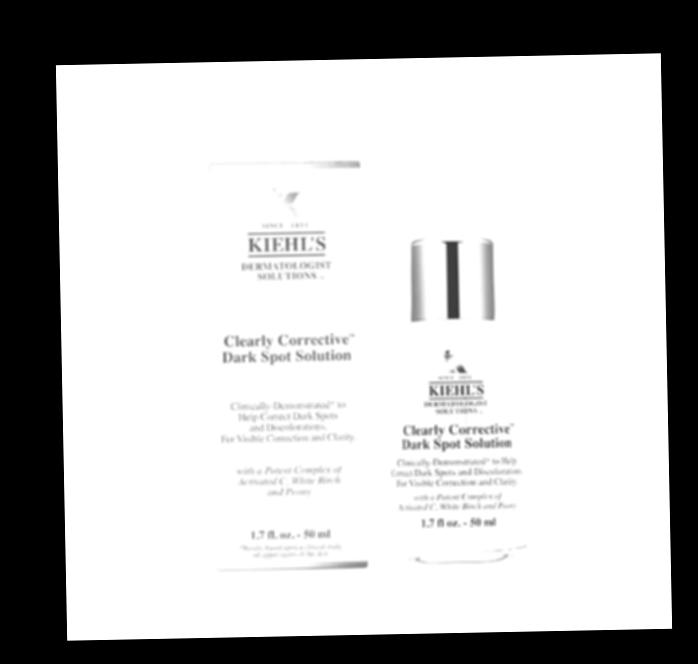cosmetic: (390, 167, 524, 552)
